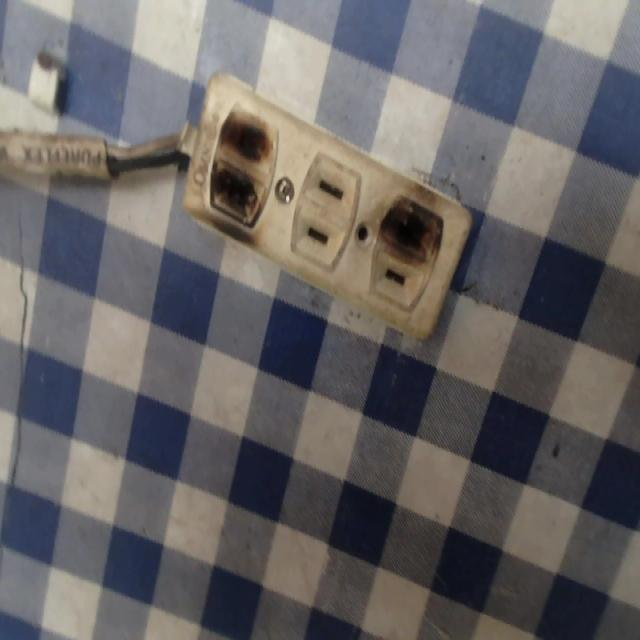-: (198, 98, 280, 238), (371, 187, 447, 276)
